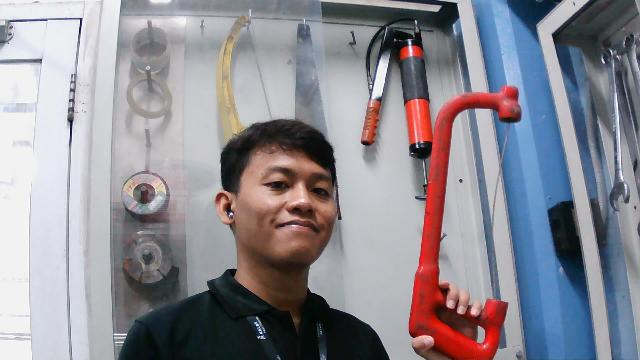gergaji_besi: (405, 84, 523, 360)
